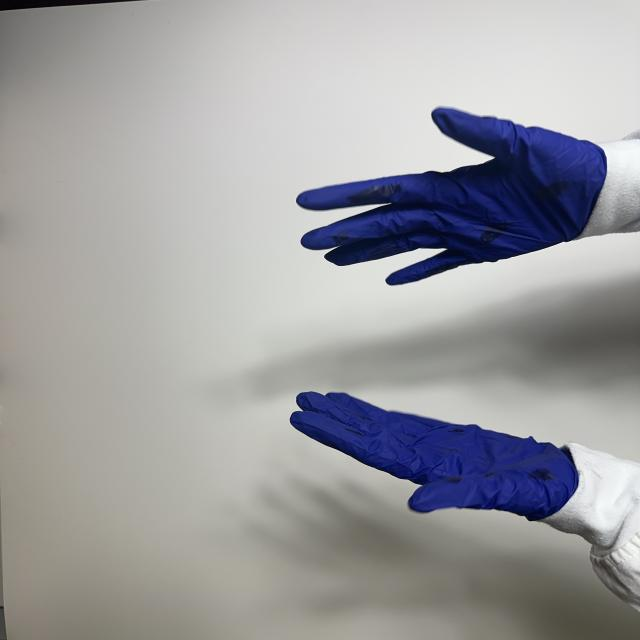gloves_contaminated: (288, 107, 614, 291), (284, 386, 583, 527)
